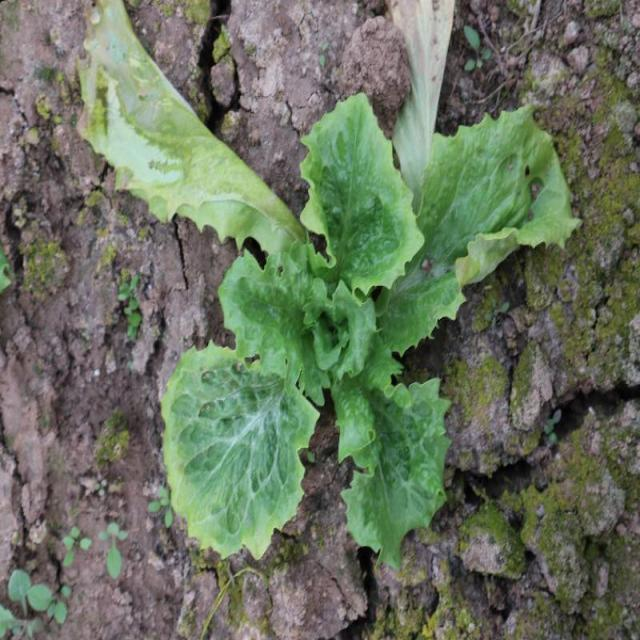crop: (164, 95, 576, 554)
